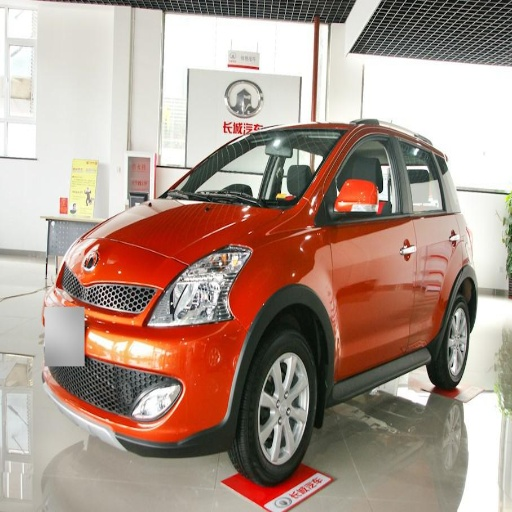back_bumper: (50, 375, 103, 434)
back_glass: (379, 1, 453, 30)
back_left_door: (394, 132, 459, 344)
front_bumper: (50, 301, 252, 454), (101, 239, 183, 277)
front_glass: (181, 130, 339, 207)
front_left_door: (321, 130, 418, 375)
